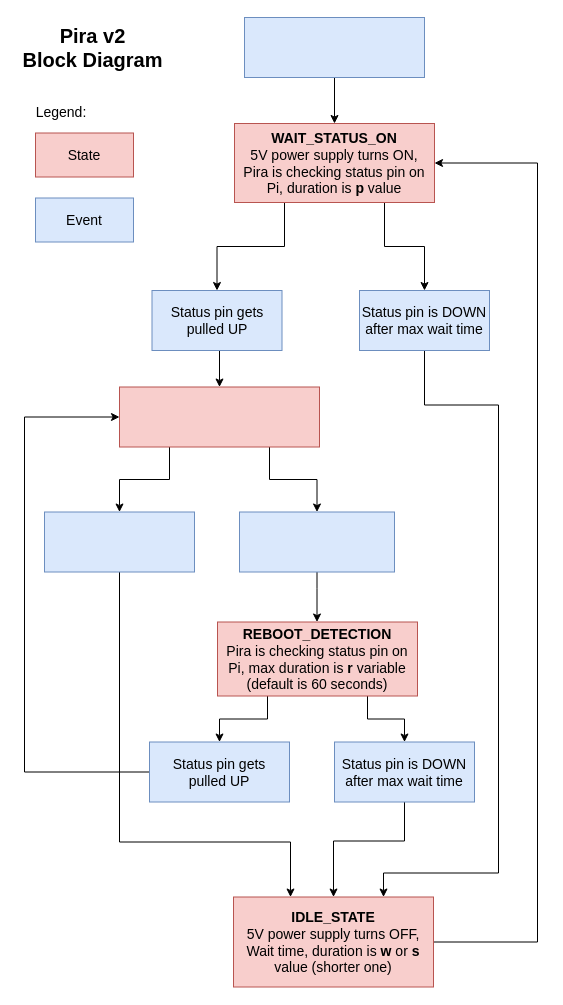
Some shapes in this 563 by 1005 pixel diagram are drawn without their labels. Here are the shapes that lost their labels. From the top down, the centre of each, then its label:
At point (334, 47): "Pira power up".
At point (219, 416): "WAKEUP Wait time, duration is p value".
At point (119, 541): "Max wait time, timer expires".
At point (316, 541): "Status pin gets pulled DOWN".
